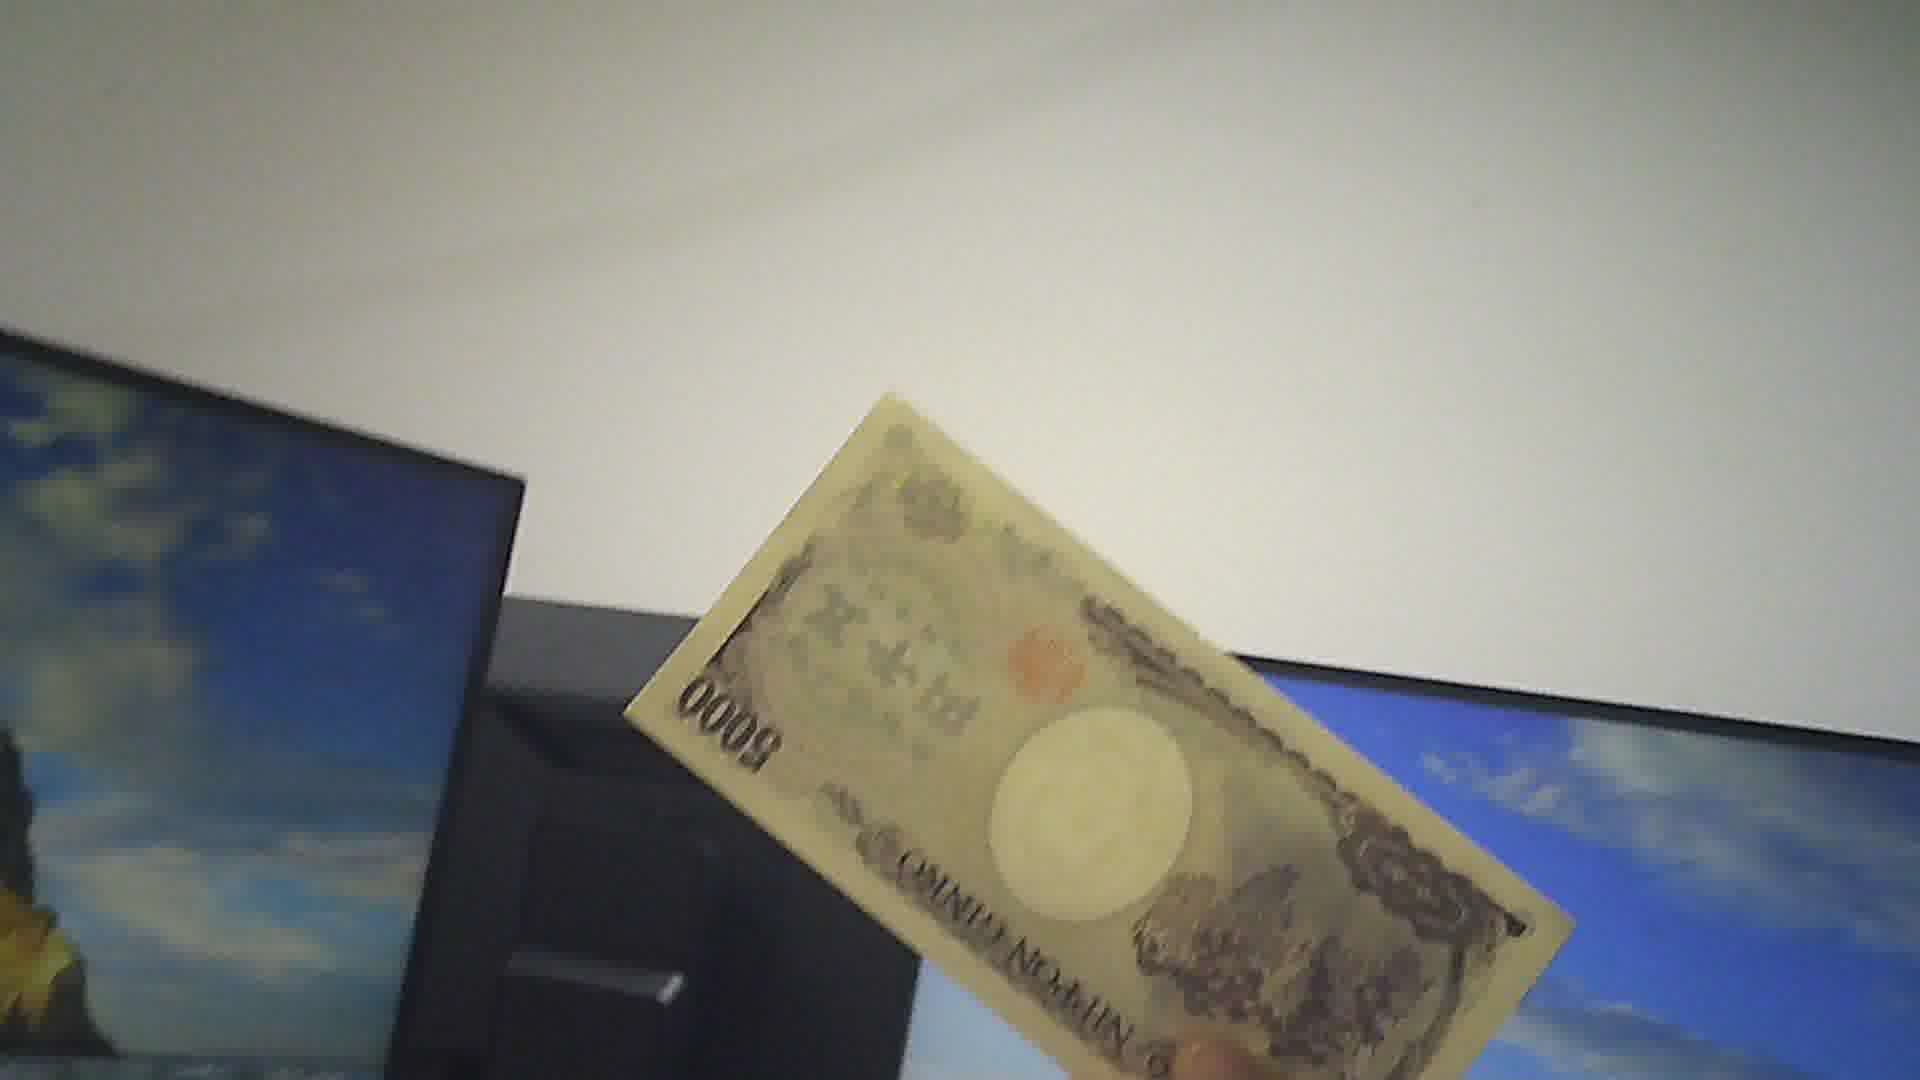5,000 Yen: (616, 392, 1543, 1079)
